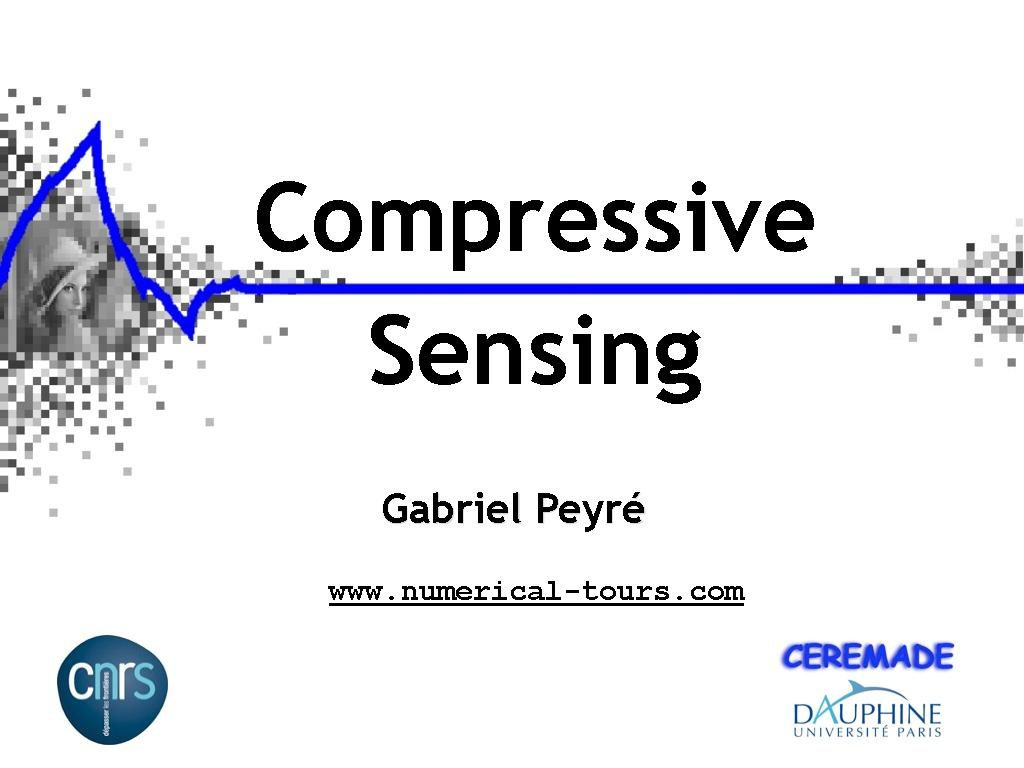subtitle: (286, 456, 768, 647)
title: (246, 148, 841, 434)
